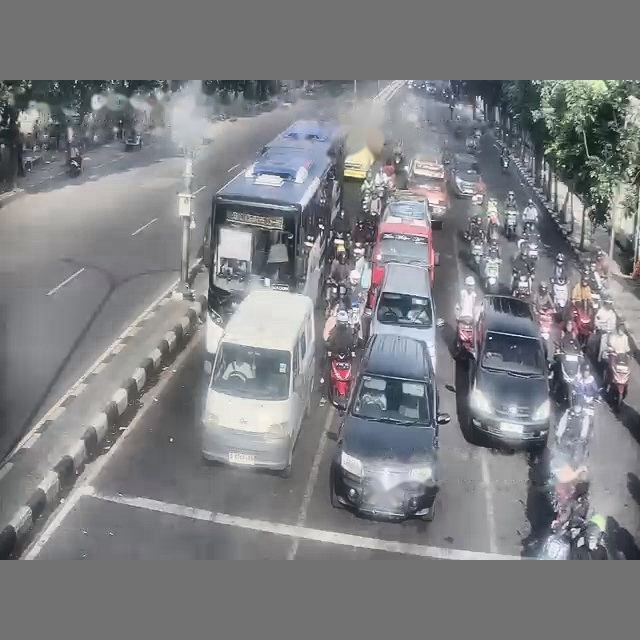Bis: (203, 147, 338, 326)
Mobil: (330, 335, 450, 520), (469, 295, 550, 447), (369, 263, 436, 370), (366, 221, 439, 311), (408, 152, 449, 227), (380, 190, 431, 225), (447, 153, 485, 199), (449, 168, 485, 203), (125, 132, 142, 150), (425, 82, 436, 95)
Motor: (551, 349, 582, 405), (327, 351, 355, 408), (604, 350, 629, 410), (454, 317, 475, 360), (573, 301, 592, 348), (538, 308, 554, 352), (484, 256, 501, 292), (551, 278, 568, 313), (512, 272, 531, 299), (470, 233, 484, 266), (504, 209, 517, 240), (500, 156, 510, 173)
